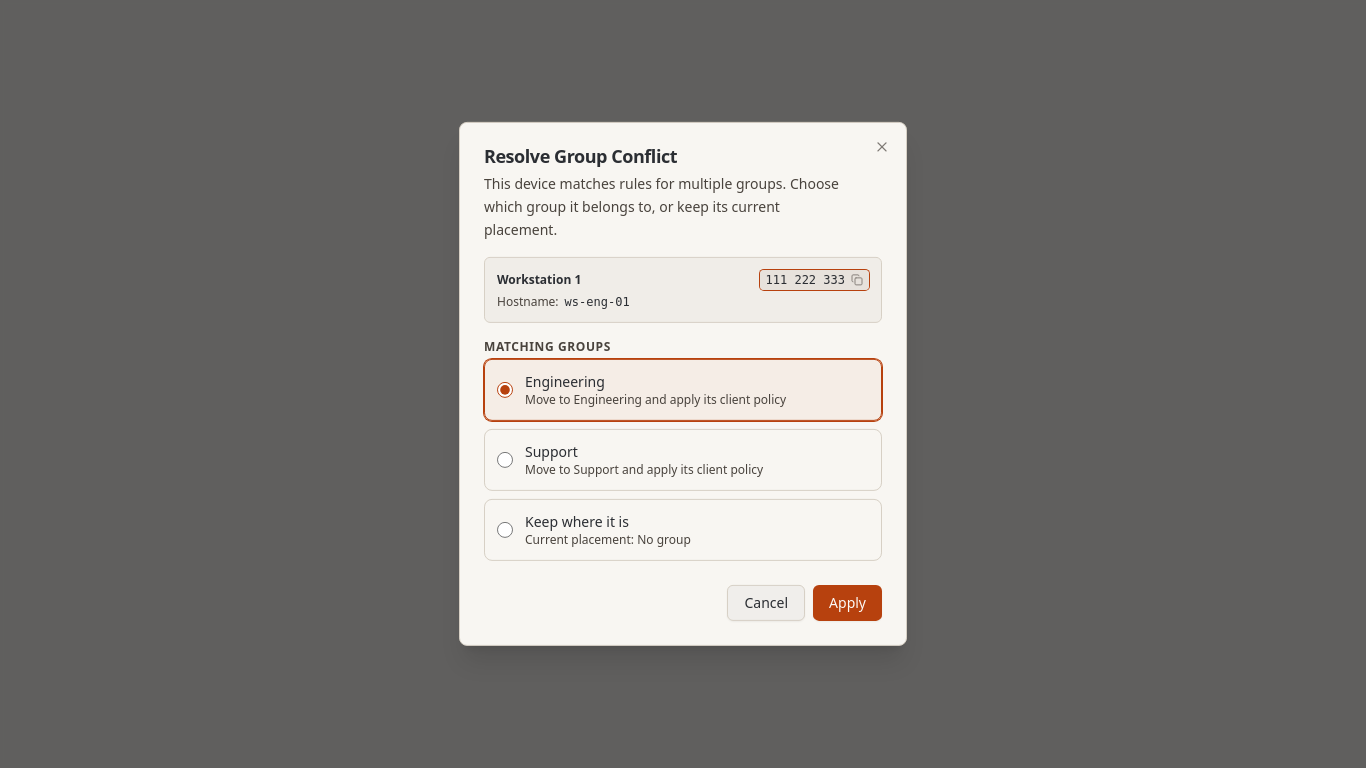
Test: GroupConflictDialog › treats a resolve 404 as already resolved and closes the dialog
Click the radio button labelled "Keep where it is Current placement: No group" at [505, 530], box x1=497 y1=522 x2=513 y2=538
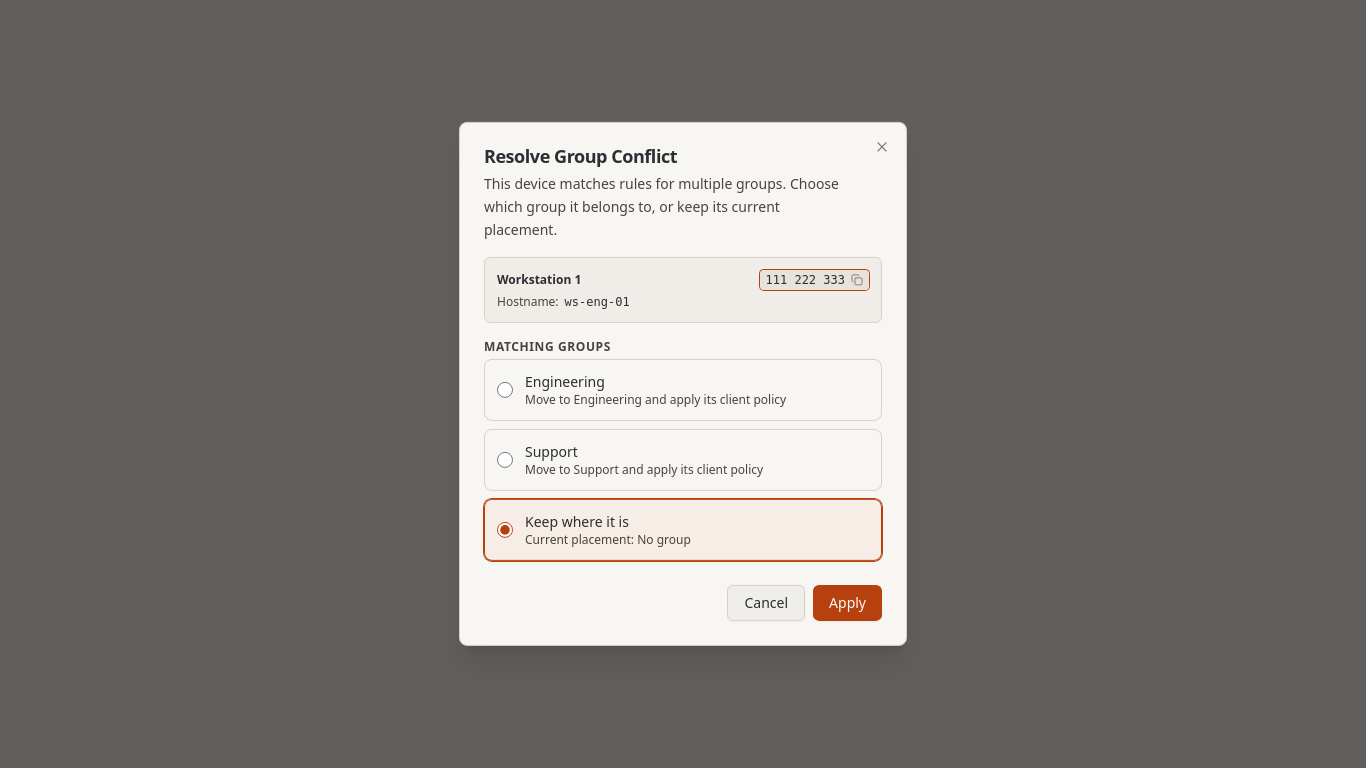
Click the button "Apply" at [848, 603], box x1=813 y1=585 x2=882 y2=621
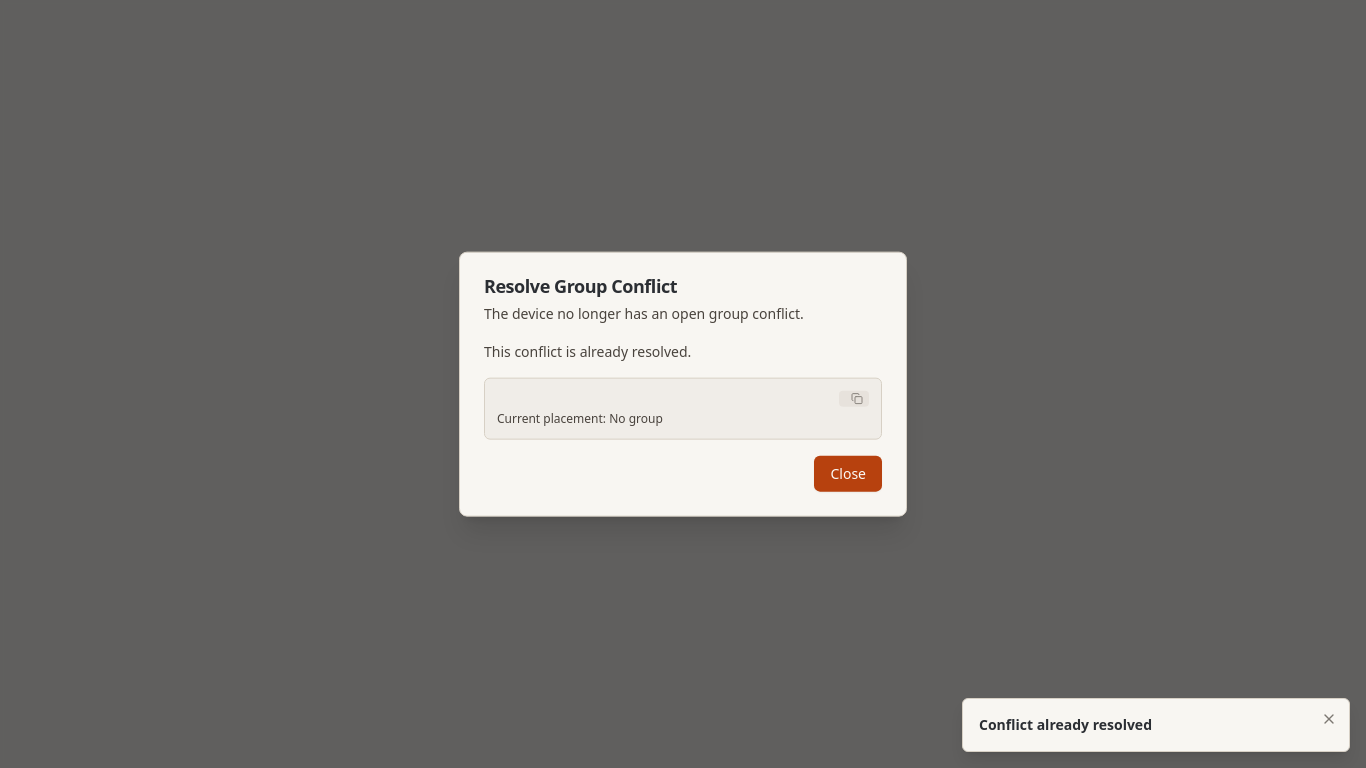
Result: the text "Conflict already resolved" is shown at x1=979 y1=715 x2=1152 y2=735
